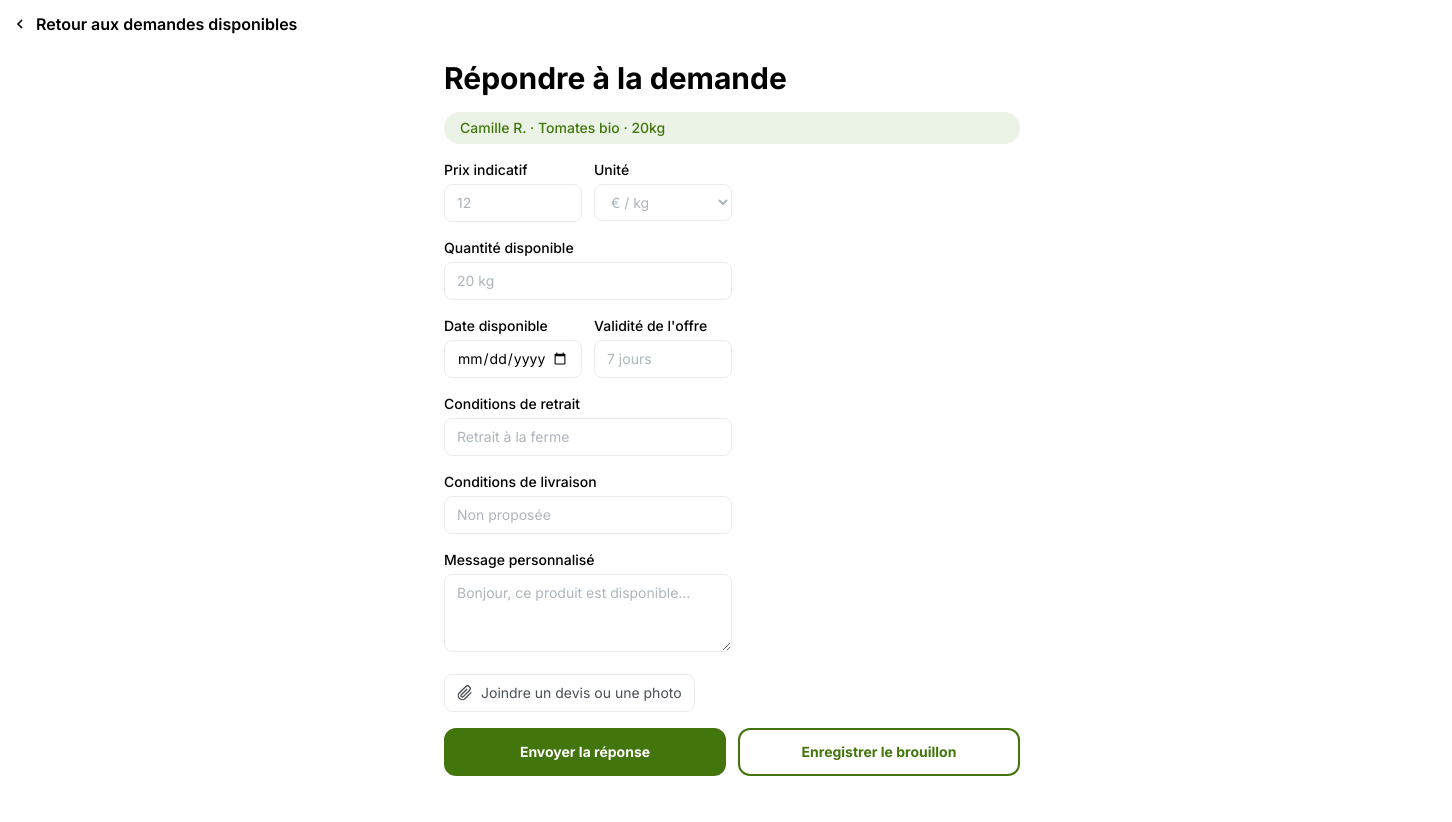
Test: ReplyComponent › enregistre un brouillon sans quitter la page
The image size is (1452, 822).
Step 1. Type "À finir" into the text box labelled "Message personnalisé" → (588, 613), box [444,574,732,652]
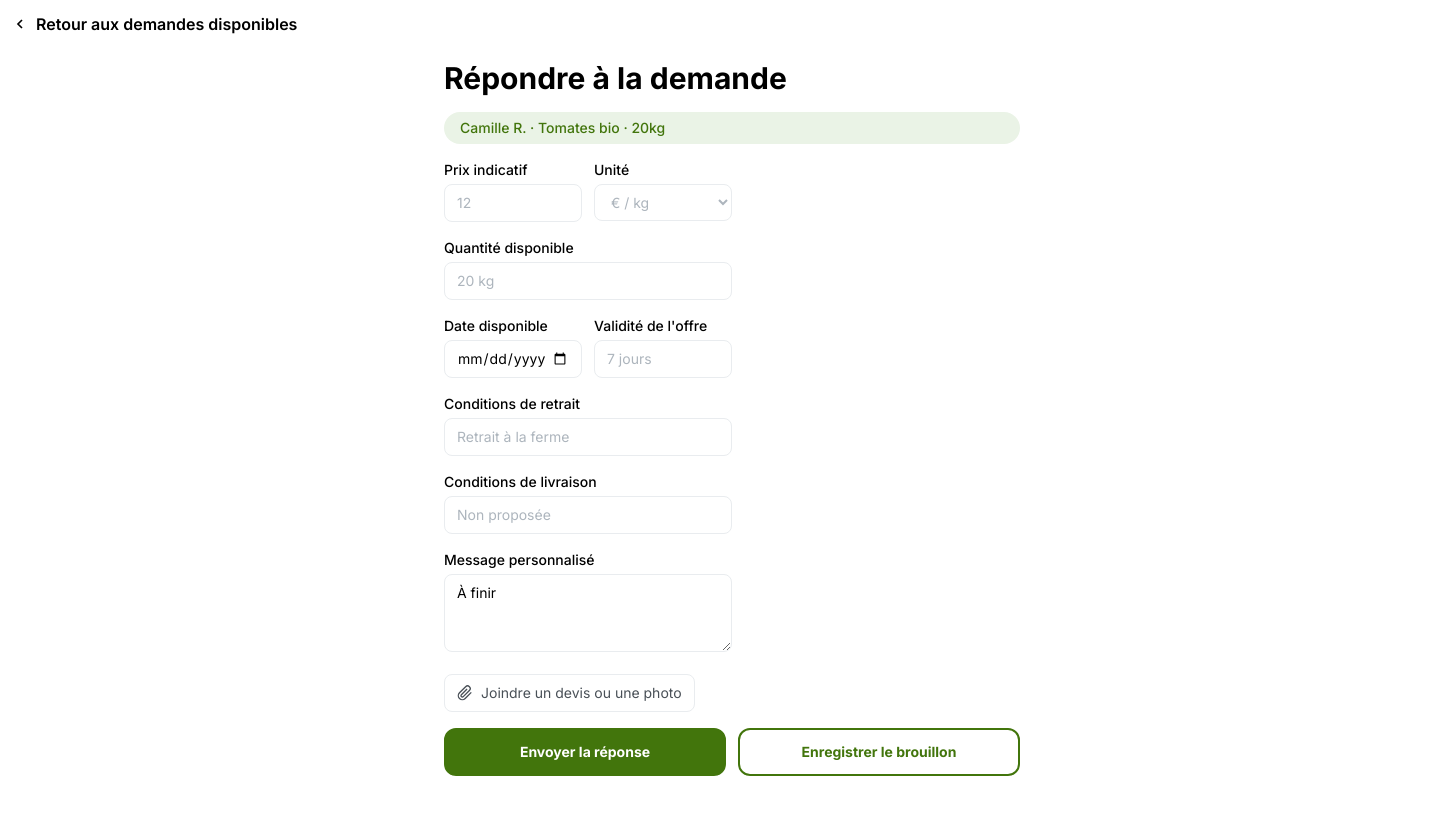
Step 2. Click the button "Enregistrer le brouillon" → click(879, 752), box [738,728,1020,776]
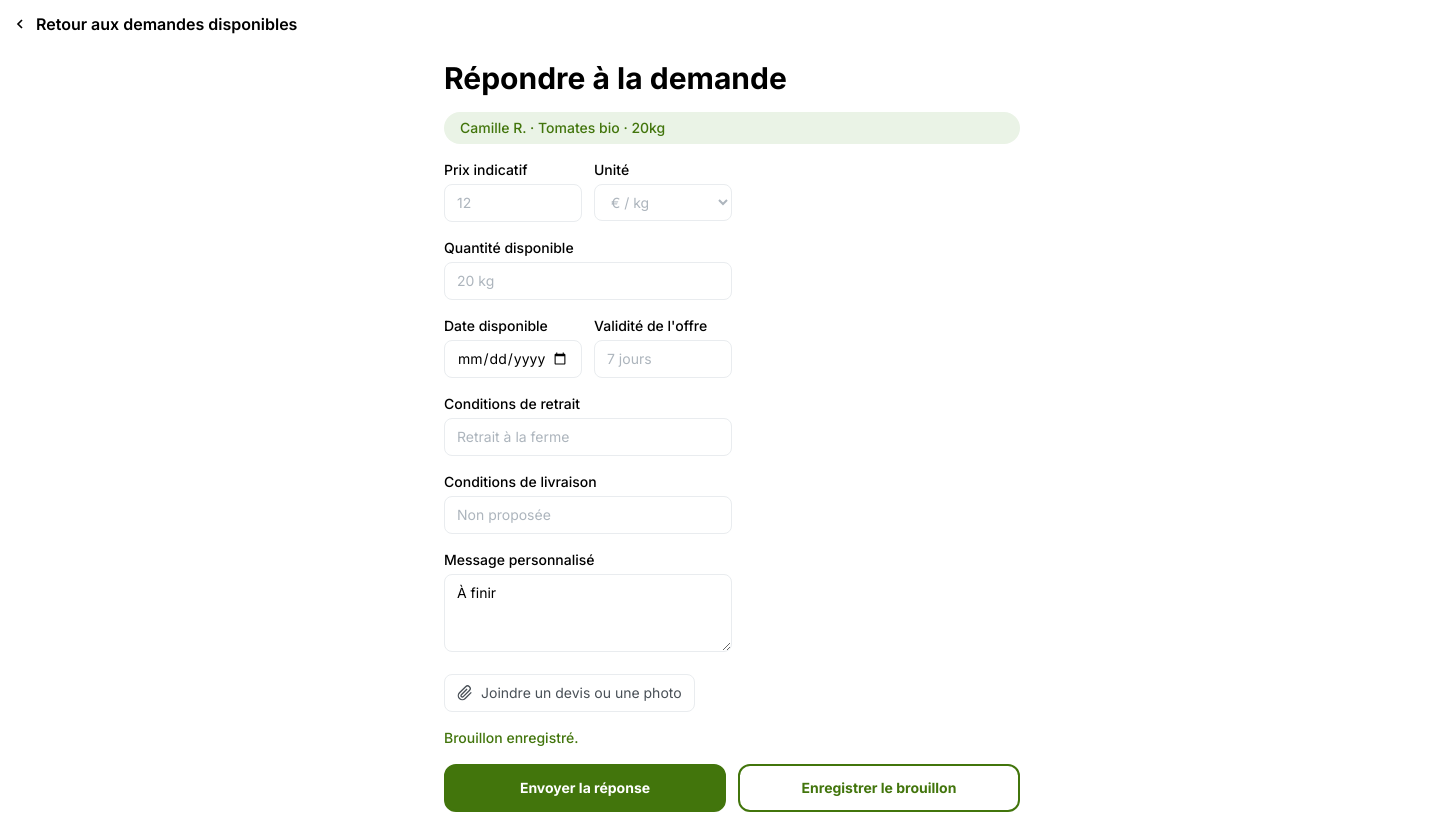
Now the text "Brouillon enregistré." is shown, box [444,729,578,746]
